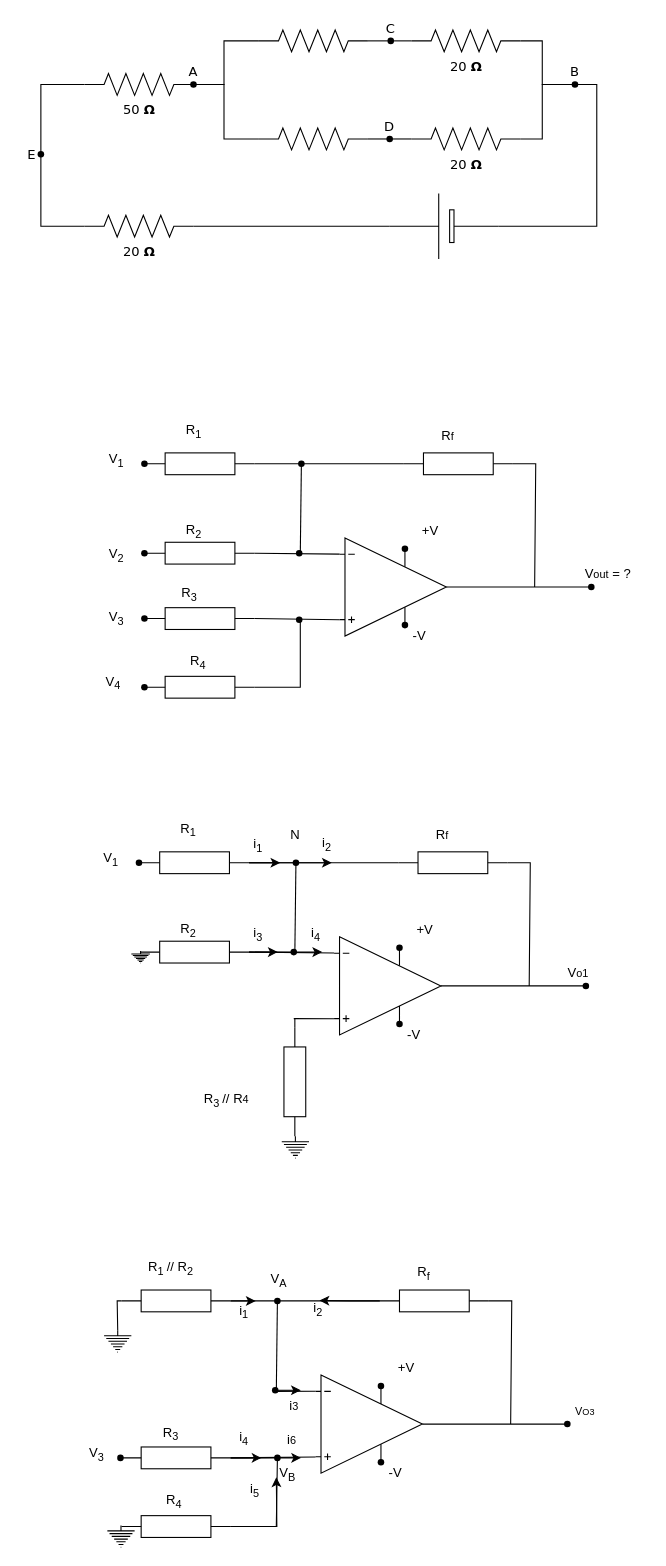
The diagram is 666 pixels wide and 1566 high, and some of its shapes have lost their labels. The centre of each missing label's shape, as x and y in pixels:
220 V: point 444,225
40 Ω: point 313,40
70 Ω: point 313,138
